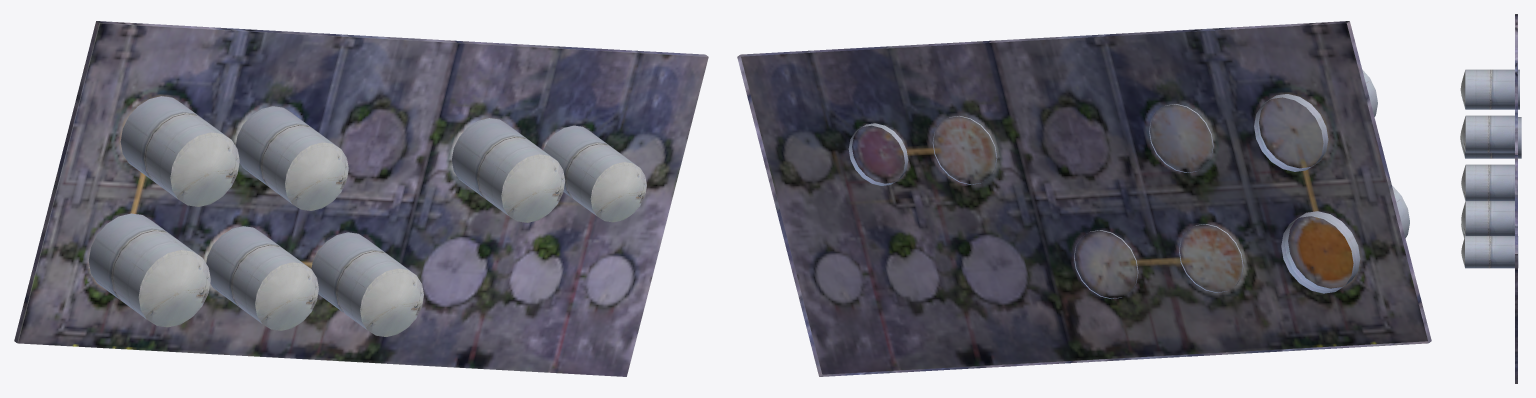
Rendered from building_p5_07_05.fbx.
The picture shows the model from 3 angles, left to right: view 1: azimuth 30°, elevation 25°; view 2: azimuth 150°, elevation 25°; view 3: azimuth 270°, elevation 25°; orthographic projection. The views are drawn at different scales.
Parts seen in each view (by area): view 1: Building_P5_07_05; view 2: Building_P5_07_05; view 3: Building_P5_07_05.
Boxes of the visible parts, box(x1,y1,x2,y2) form: Building_P5_07_05: box(14, 21, 708, 376); Building_P5_07_05: box(737, 21, 1431, 376); Building_P5_07_05: box(1460, 14, 1521, 383).
Bounding box in the file's own units: 7894 × 5263 × 1218.
